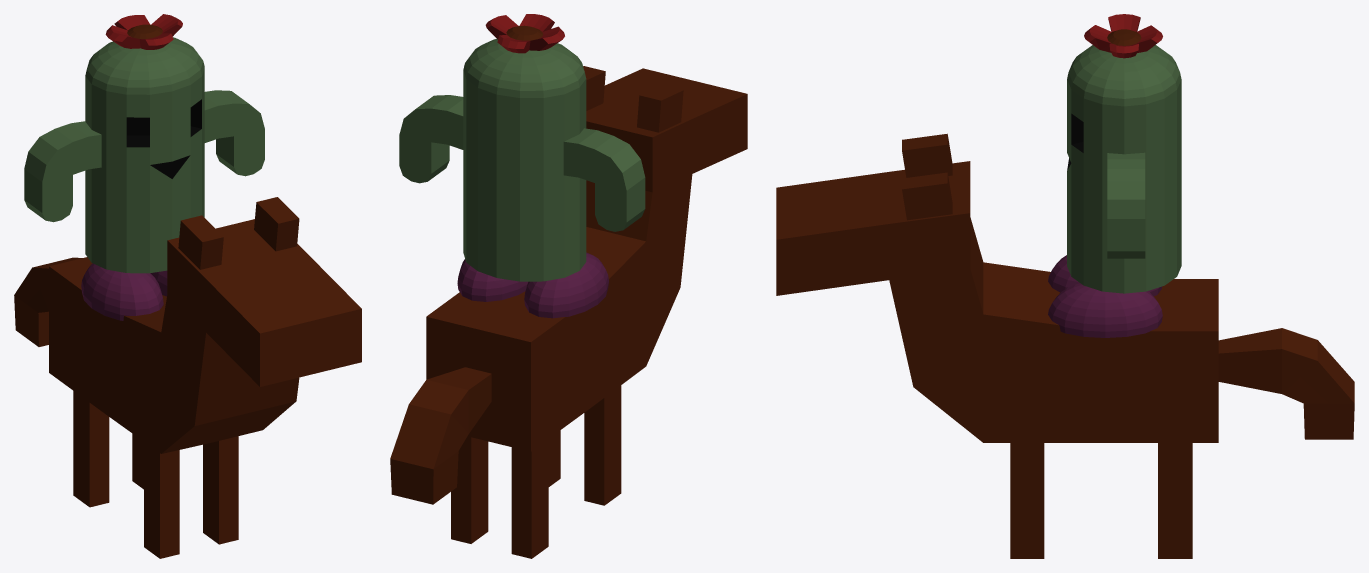
File: StrongEnemy.fbx
3 views of the same model, side by side, from view 1: azimuth 30°, elevation 25°; view 2: azimuth 150°, elevation 25°; view 3: azimuth 270°, elevation 25° (orthographic). The views are drawn at different scales.
Visible parts, largest first — view 1: StrongEnemy; view 2: StrongEnemy; view 3: StrongEnemy.
Part boxes in pixels (x1,y1,x2,y2): StrongEnemy: (14,14,361,558); StrongEnemy: (390,14,747,558); StrongEnemy: (776,14,1354,558).
Bounding box in the file's own units: 180 × 375 × 387.
